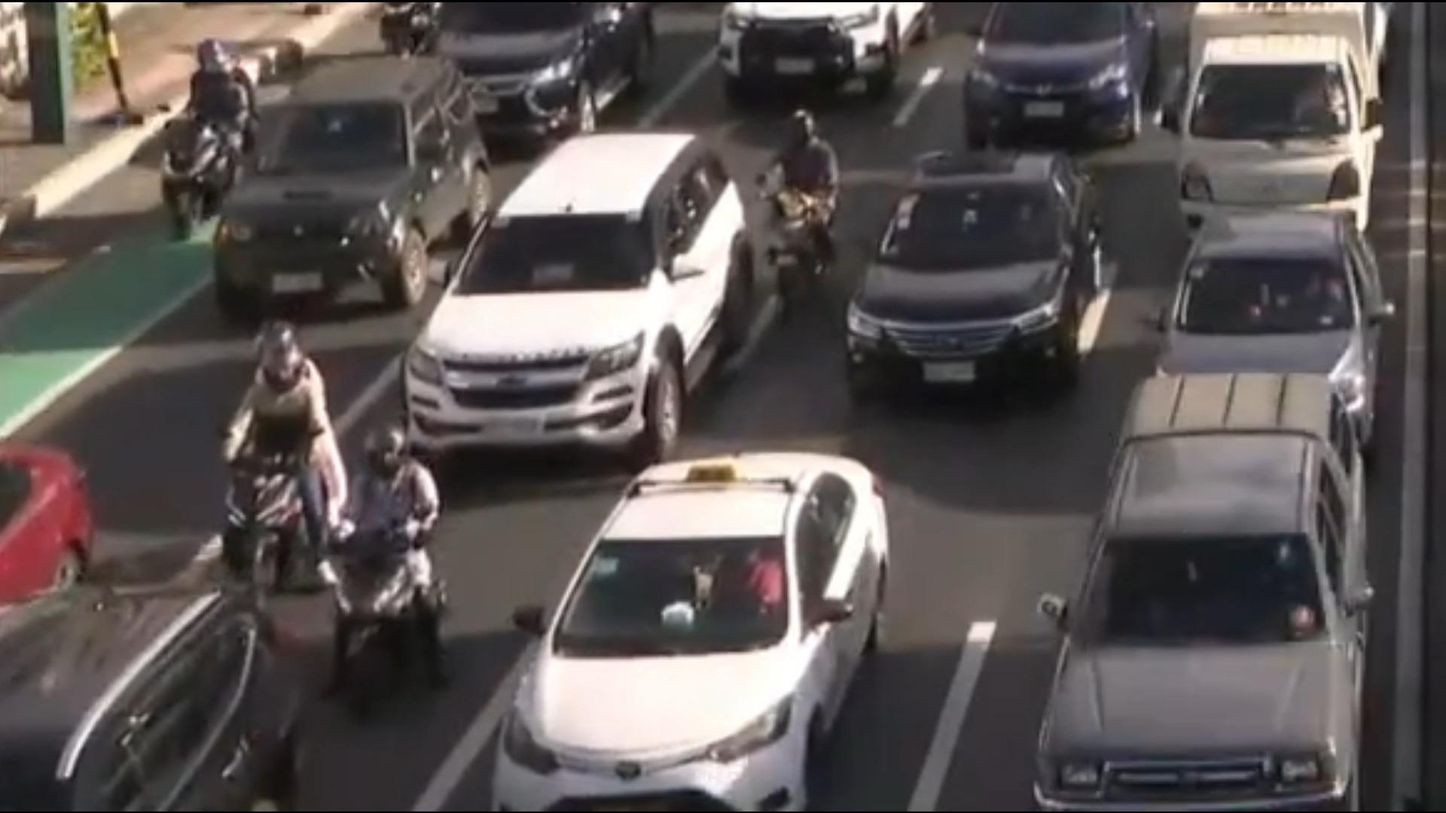Motorcycle: (284, 431, 484, 690), (189, 303, 336, 627), (138, 23, 266, 246), (757, 96, 876, 303), (358, 0, 441, 50)
Pickup: (995, 362, 1428, 813)
SUV: (366, 123, 742, 473), (194, 57, 528, 325), (817, 149, 1145, 416), (0, 606, 319, 813), (400, 0, 674, 140), (951, 0, 1168, 153), (709, 4, 942, 122)
Sedan: (442, 413, 953, 813), (1132, 192, 1426, 431), (0, 454, 113, 613)
Truck: (1158, 0, 1446, 271)
